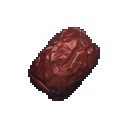ng: (21, 22, 106, 107)
